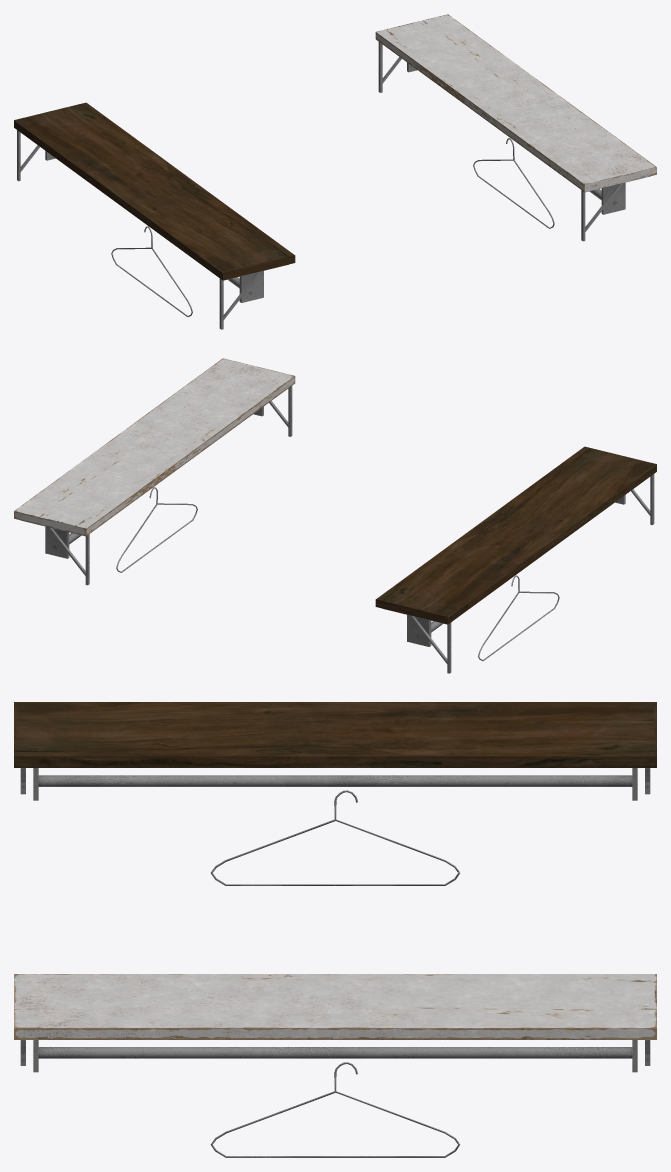
File: clothes_rack_with_hanger.glb
3 renders of one model, top to bottom at view 1: azimuth 30°, elevation 25°; view 2: azimuth 150°, elevation 25°; view 3: azimuth 270°, elevation 25°, orthographic. The views are drawn at different scales.
Parts seen in each view (by area): view 1: Plane; view 2: Plane; view 3: Plane.
Boxes of the visible parts, <box> form: Plane: <box>14,14,656,329</box>; Plane: <box>14,358,656,673</box>; Plane: <box>14,702,656,1157</box>.
Bounding box in the file's own units: 2 × 0.4531 × 1.67.
Materials: 1 (1 with a texture image).
